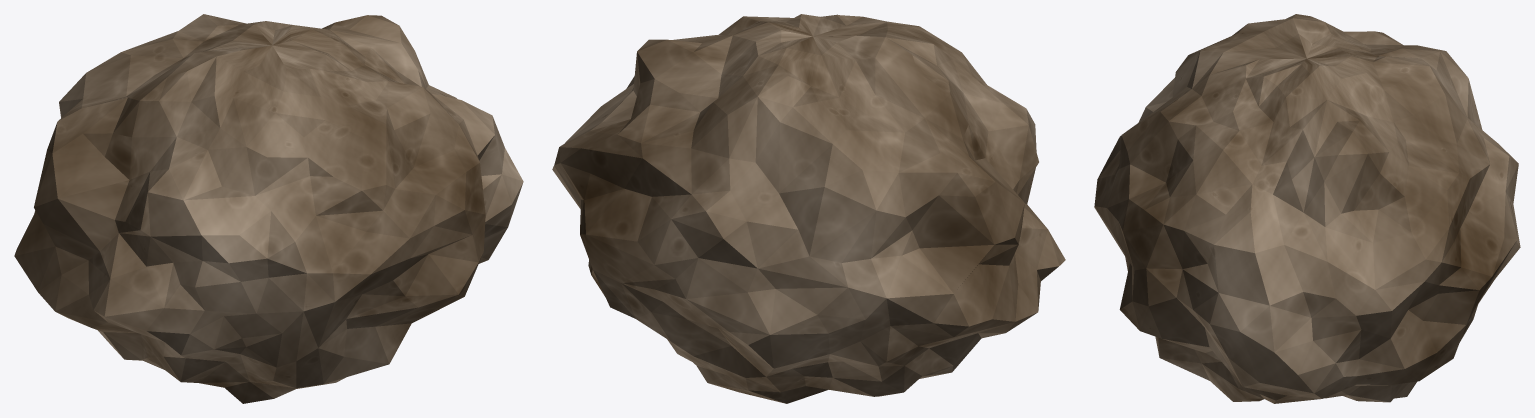
The model's file is solar-asteroid-03.glb.
3 views of the same model, side by side, from view 1: azimuth 30°, elevation 25°; view 2: azimuth 150°, elevation 25°; view 3: azimuth 270°, elevation 25° (orthographic). The views are drawn at different scales.
Visible parts, largest first — view 1: asteroid-03 | nucleus; view 2: asteroid-03 | nucleus; view 3: asteroid-03 | nucleus.
Part boxes in pixels (bbox=[...]): asteroid-03 | nucleus: bbox=[14, 14, 523, 403]; asteroid-03 | nucleus: bbox=[552, 14, 1065, 403]; asteroid-03 | nucleus: bbox=[1094, 14, 1520, 403].
Size of the model in its own units: 2.11 by 1.52 by 1.76.
Materials: 1 (1 with a texture image).
